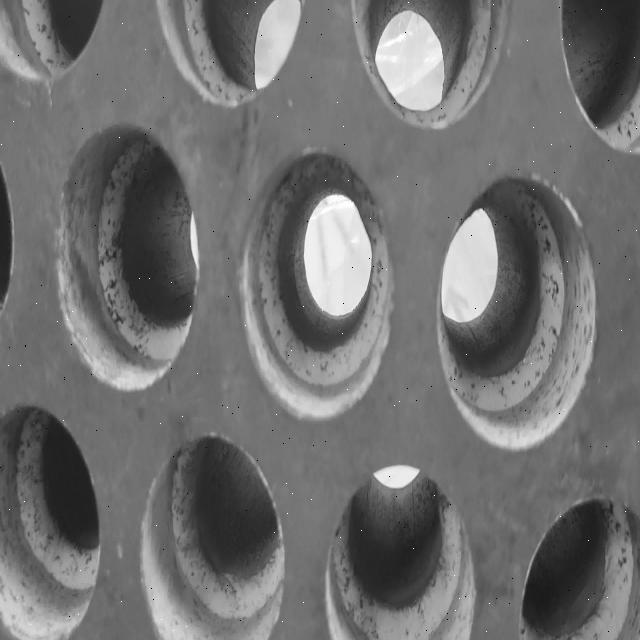Hole: (437, 172, 598, 452), (238, 146, 394, 422), (55, 120, 201, 392), (139, 432, 286, 640), (325, 463, 476, 639), (2, 401, 104, 639), (353, 1, 508, 131), (520, 495, 640, 639), (152, 1, 309, 109), (560, 2, 639, 156), (1, 0, 113, 84)
